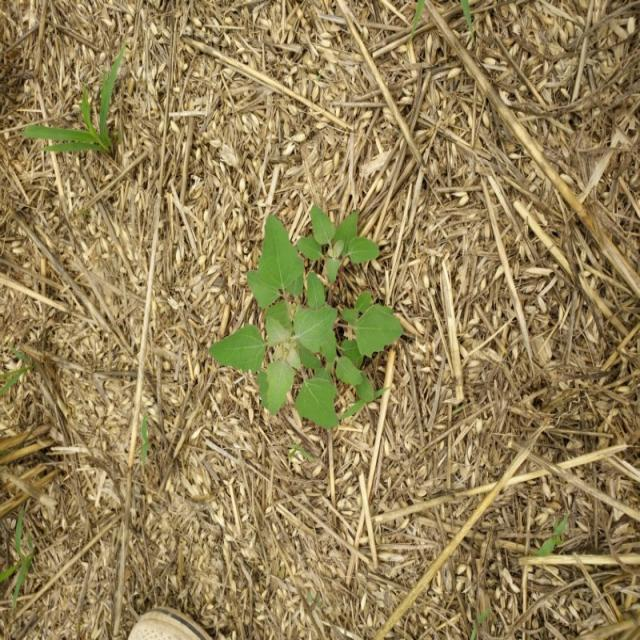goosefoots: (196, 205, 453, 445)
